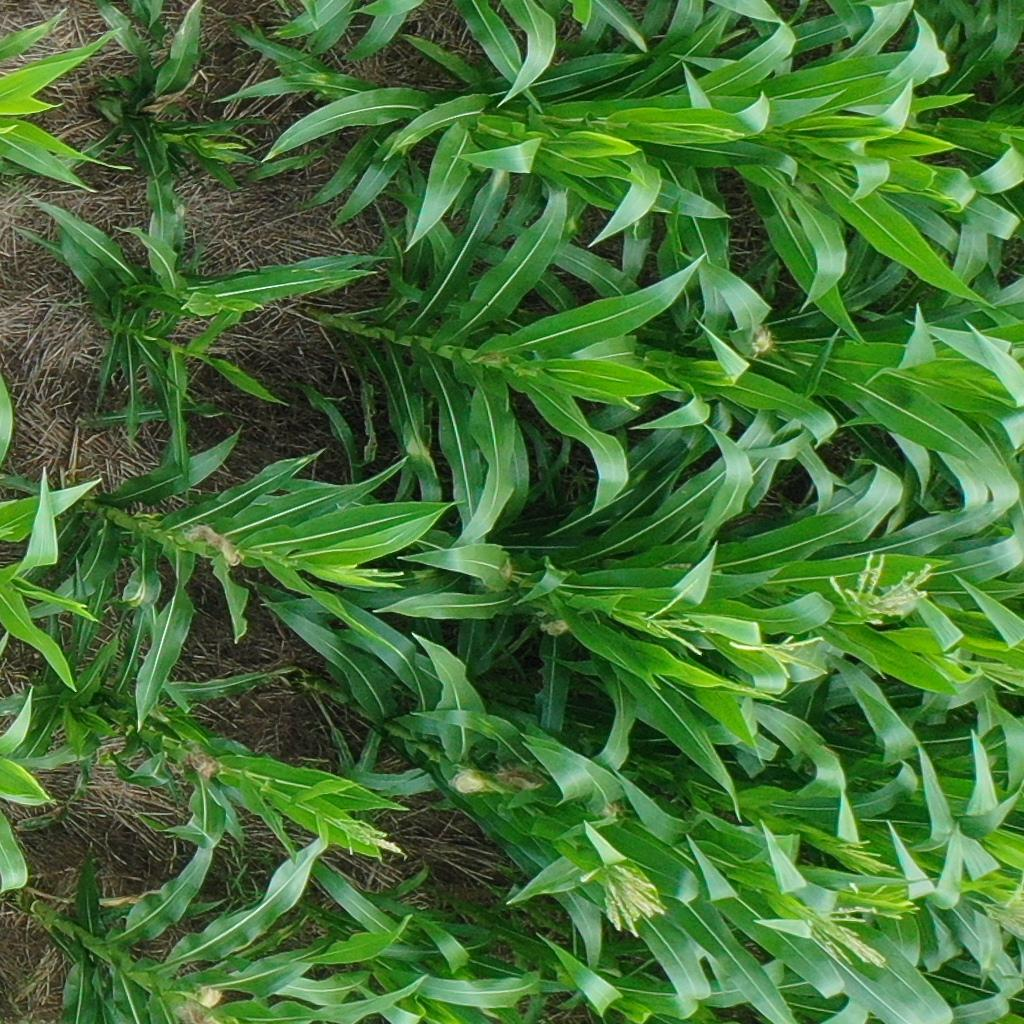Tassel: (823, 546, 934, 623), (775, 903, 900, 971), (576, 854, 667, 939), (632, 575, 718, 657), (726, 625, 831, 686), (334, 815, 411, 859), (946, 651, 1021, 695), (834, 828, 898, 878), (844, 882, 923, 922), (325, 559, 409, 588)
